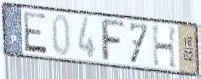0: (50, 13, 72, 58)
4: (77, 15, 99, 62)
7: (128, 21, 149, 66)
E: (22, 10, 48, 56)
F: (98, 16, 127, 64)
H: (150, 23, 179, 71)
